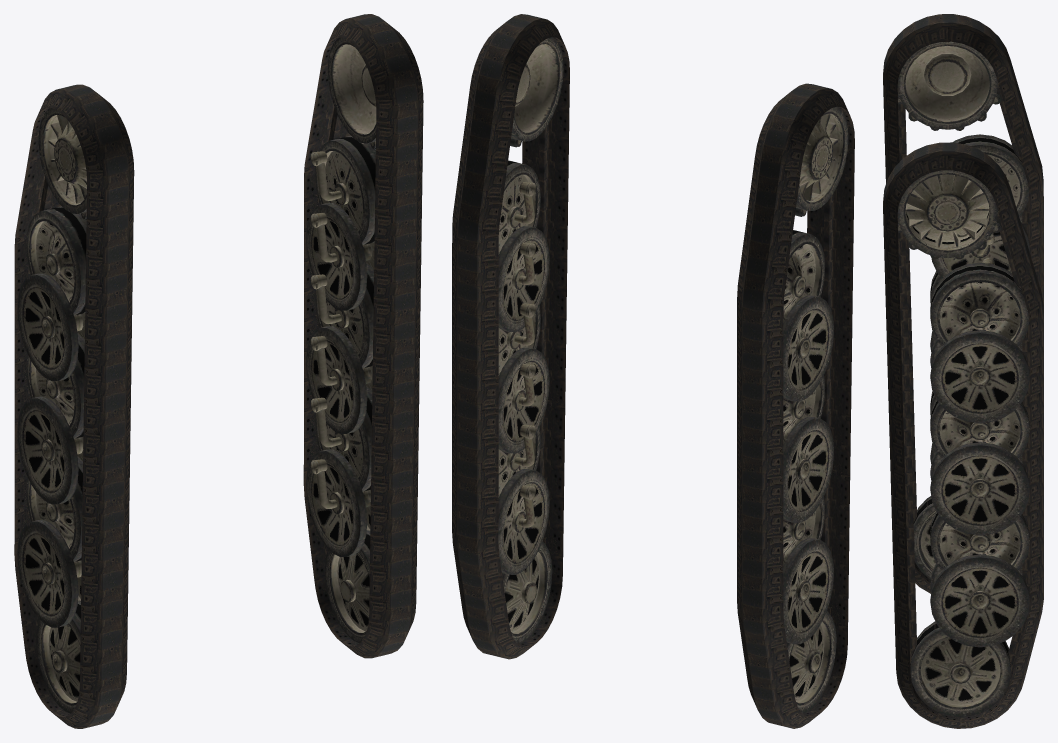
Rendered from Chassis.glb.
3 renders of one model, left to right at view 1: azimuth 30°, elevation 25°; view 2: azimuth 150°, elevation 25°; view 3: azimuth 270°, elevation 25°, orthographic. The views are drawn at different scales.
Parts seen in each view (by area): view 1: set_0_group_0, set_1_group_0, set_3_group_0, set_2_group_0; view 2: set_0_group_0, set_1_group_0, set_3_group_0, set_2_group_0; view 3: set_3_group_0, set_1_group_0, set_2_group_0, set_0_group_0.
Part boxes in pixels (bbox=[...]): set_0_group_0: bbox=[14, 84, 134, 728]; set_1_group_0: bbox=[303, 14, 423, 658]; set_3_group_0: bbox=[306, 37, 376, 643]; set_2_group_0: bbox=[17, 108, 86, 713]; set_0_group_0: bbox=[737, 83, 854, 728]; set_1_group_0: bbox=[452, 14, 569, 659]; set_3_group_0: bbox=[498, 37, 563, 644]; set_2_group_0: bbox=[783, 106, 848, 713]; set_3_group_0: bbox=[897, 170, 1029, 716]; set_1_group_0: bbox=[883, 142, 1043, 728]; set_2_group_0: bbox=[897, 41, 1029, 579]; set_0_group_0: bbox=[883, 14, 1043, 593].
Size of the model in its own units: 2.86 by 5.15 by 1.3.
4 materials, 4 textured.
